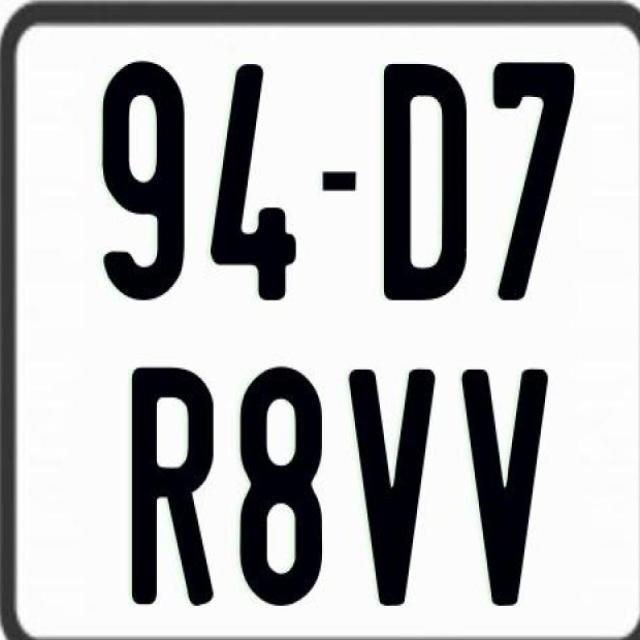license-plate: (32, 37, 640, 638)
